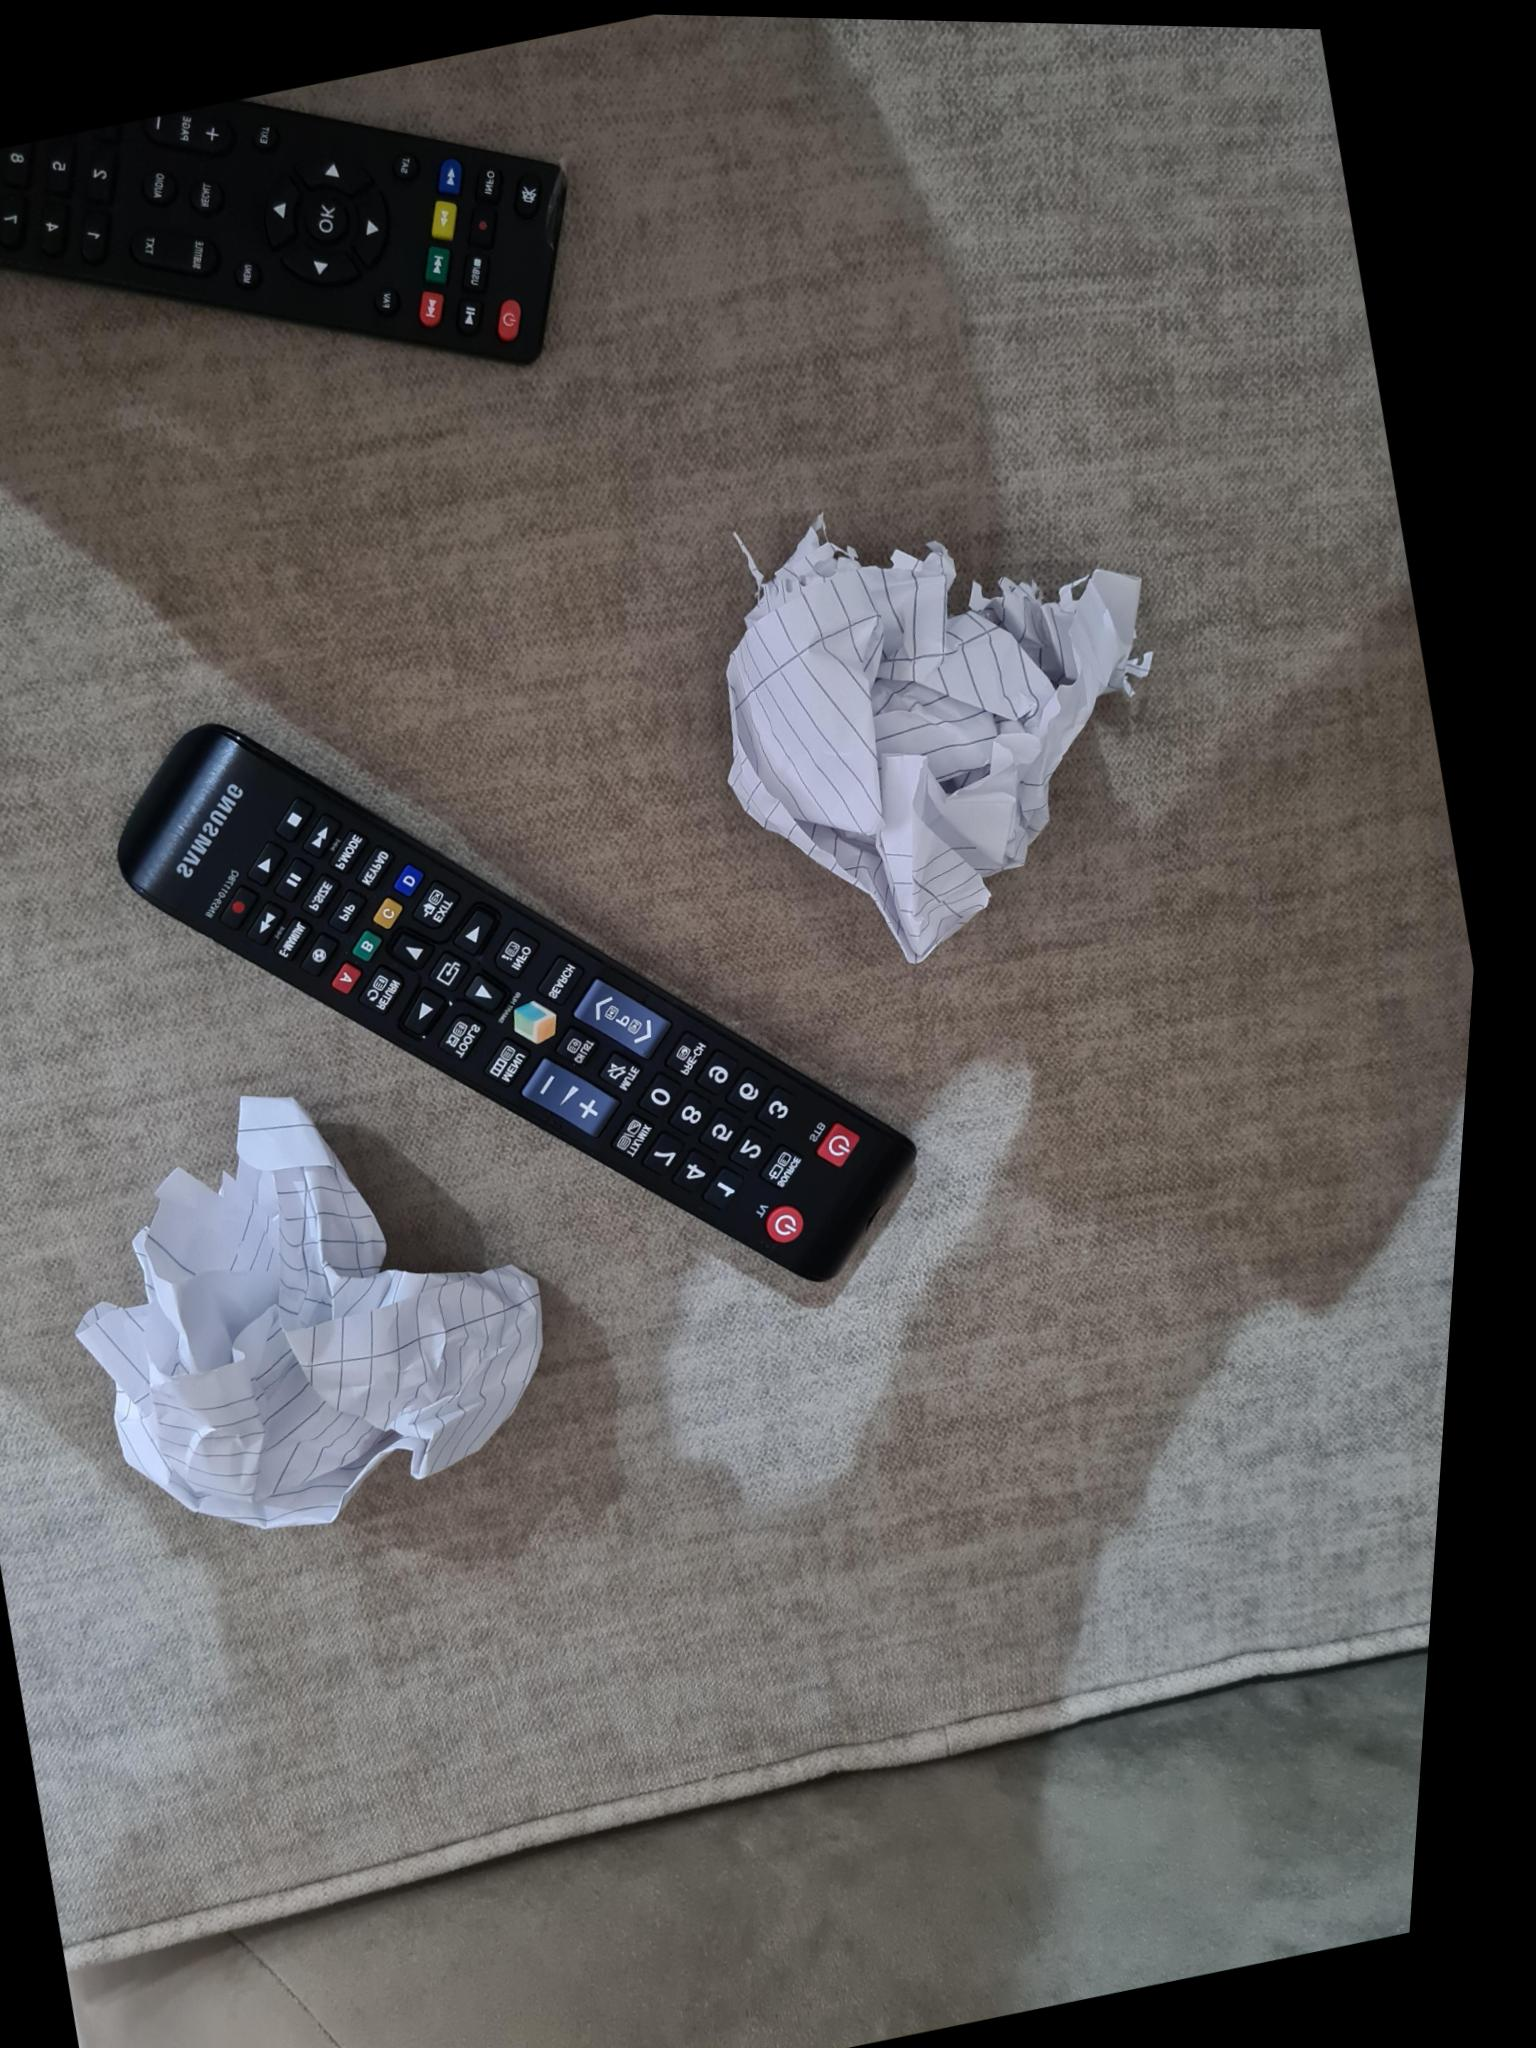paper: (0, 1055, 626, 1587), (634, 458, 1215, 1009)
